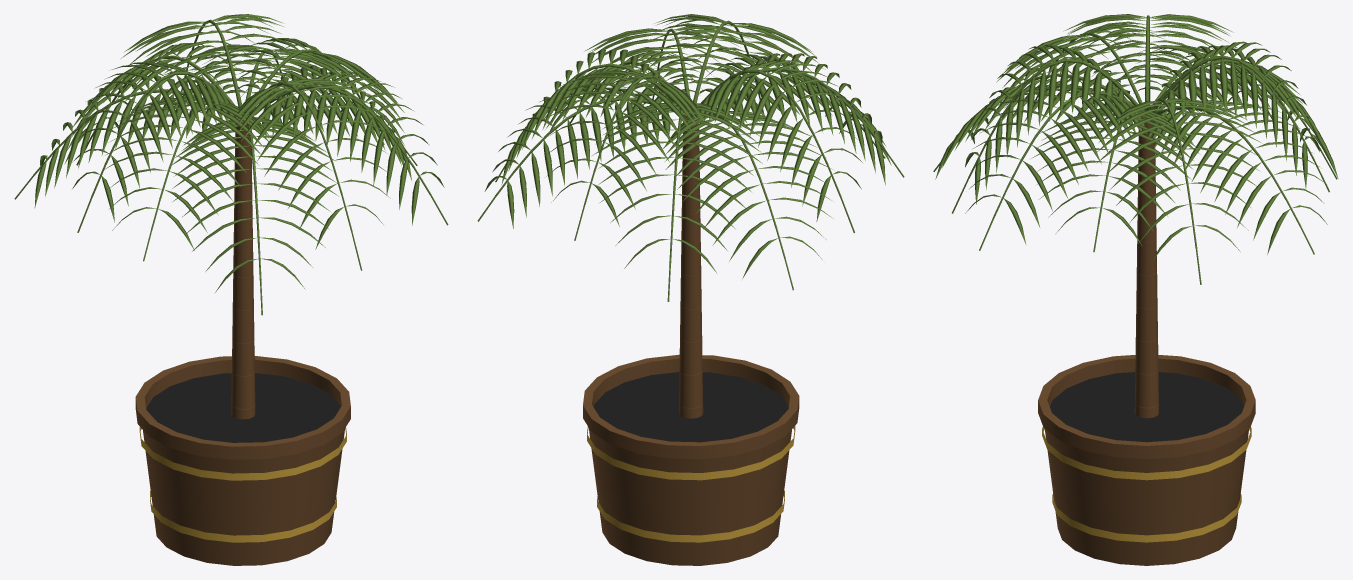
File: parametric-planter-1st-pub.glb
3 views of the same model, side by side, from view 1: azimuth 30°, elevation 25°; view 2: azimuth 150°, elevation 25°; view 3: azimuth 270°, elevation 25° (orthographic).
Parts seen in each view (by area): view 1: parametric-planter-1st-pub; view 2: parametric-planter-1st-pub; view 3: parametric-planter-1st-pub.
Part boxes in pixels (<box>): parametric-planter-1st-pub: <box>14,14,448,565</box>; parametric-planter-1st-pub: <box>477,14,904,565</box>; parametric-planter-1st-pub: <box>933,14,1338,565</box>.
Size of the model in its own units: 1.09 by 1.45 by 1.12.
